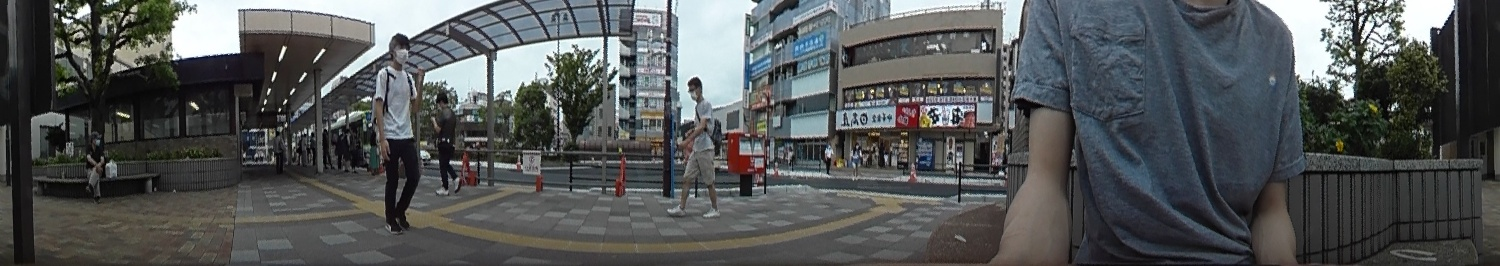difficult_person: (269, 129, 284, 172), (366, 119, 378, 172), (338, 128, 351, 170), (850, 141, 860, 179), (299, 131, 308, 169)
person: (368, 30, 417, 232), (676, 76, 719, 221), (429, 93, 462, 197), (83, 130, 104, 202)
